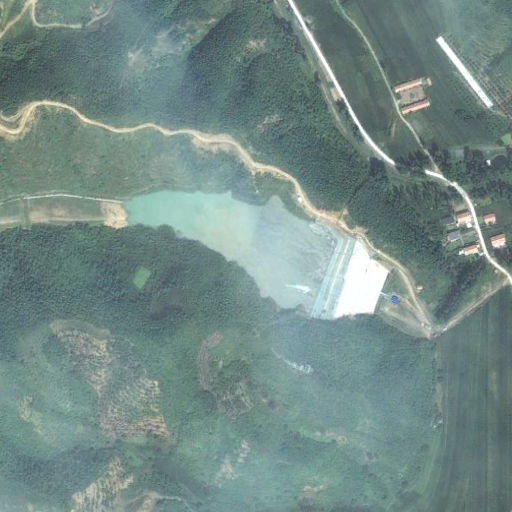tp: (120, 187, 390, 321)
